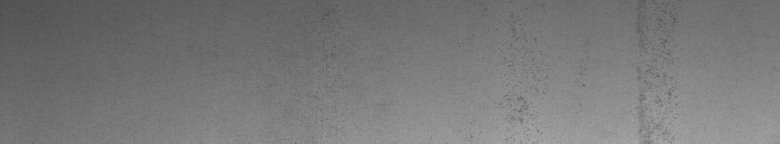ib: (496, 16, 678, 136)
